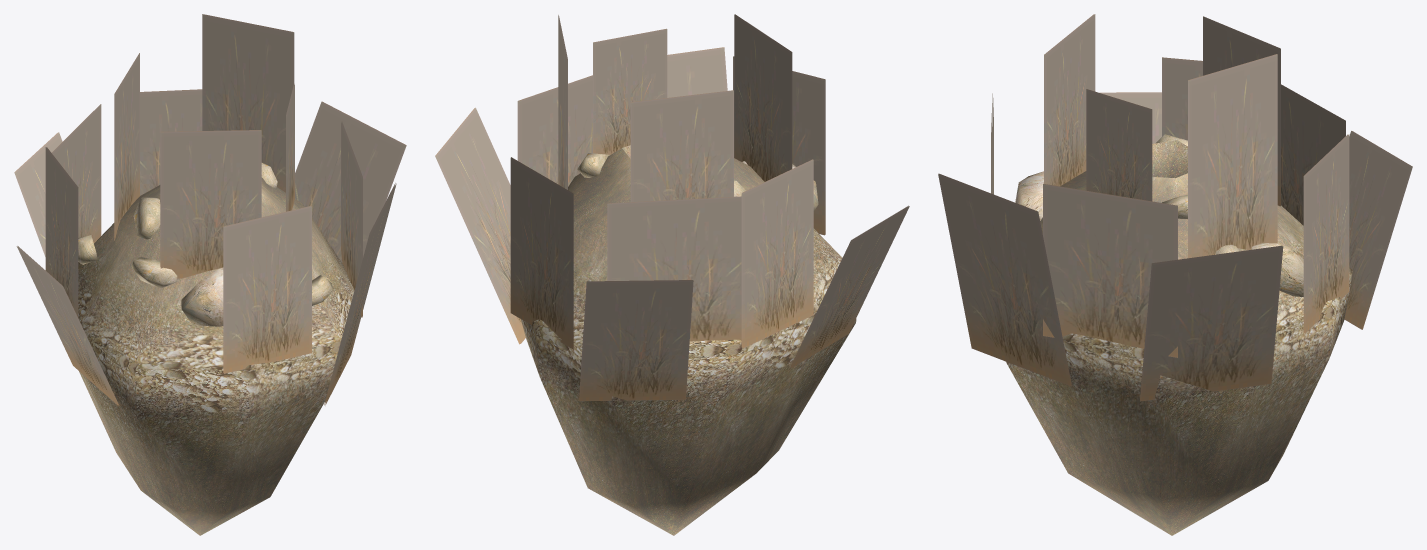
Rendered from poi_all_lair_antpile_light_l1.fbx.
3 renders of one model, left to right at view 1: azimuth 30°, elevation 25°; view 2: azimuth 150°, elevation 25°; view 3: azimuth 270°, elevation 25°, orthographic. The views are drawn at different scales.
Visible parts, largest first — view 1: mesh_node; view 2: mesh_node; view 3: mesh_node.
Part boxes in pixels (x1,y1,x2,y2): mesh_node: [14, 14, 406, 535]; mesh_node: [435, 14, 909, 535]; mesh_node: [938, 14, 1412, 535].
Size of the model in its own units: 6.11 by 7.32 by 6.19.
